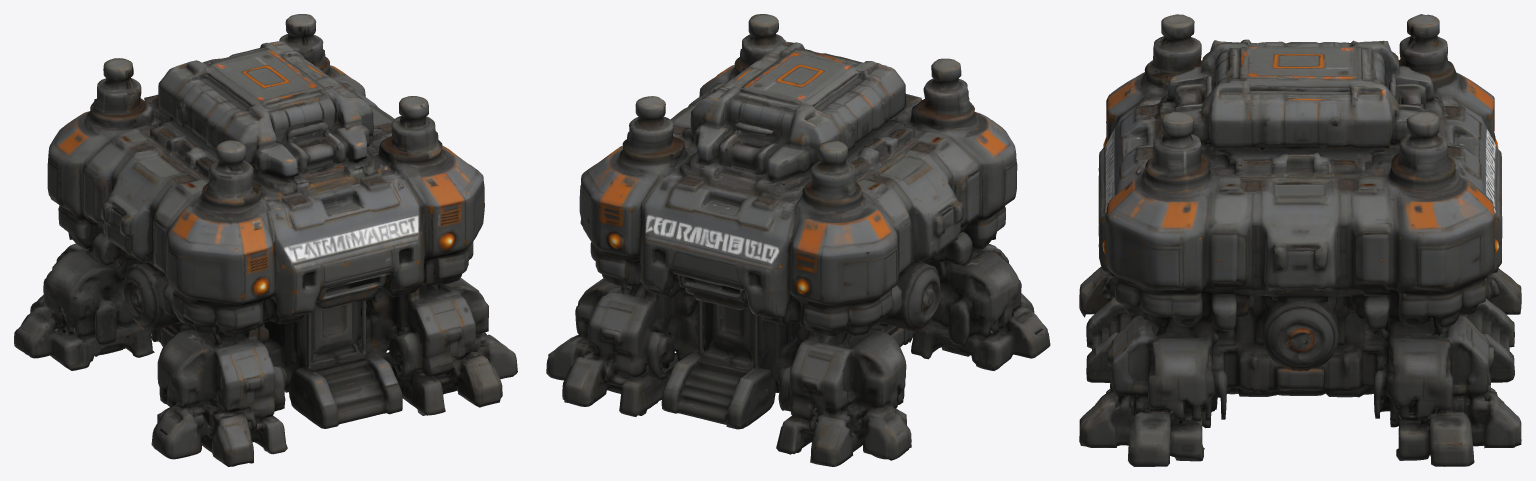
Rendered from command_center.glb.
3 renders of one model, left to right at view 1: azimuth 30°, elevation 25°; view 2: azimuth 150°, elevation 25°; view 3: azimuth 270°, elevation 25°, orthographic. The views are drawn at different scales.
Bounding box in the file's own units: 2 × 1.62 × 1.99.
Materials: 1 (1 with a texture image).
